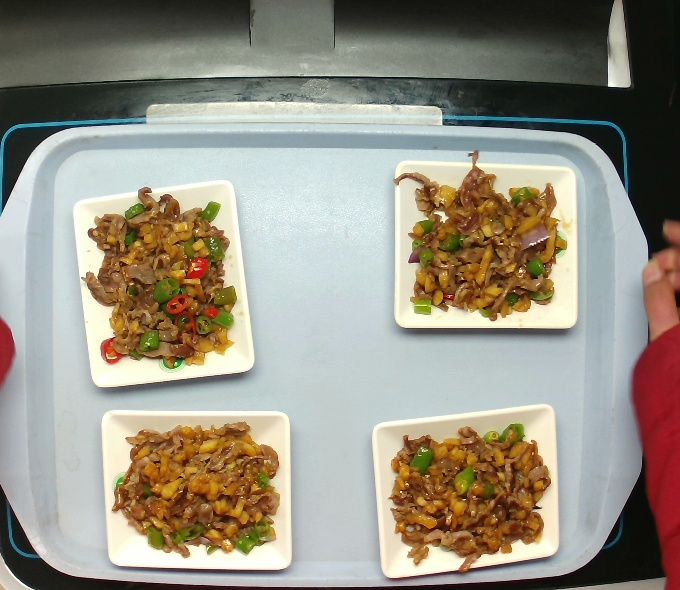wcq-ZhaCaiChaoJiZhen: (68, 176, 251, 382), (391, 144, 579, 335), (376, 409, 558, 576), (106, 414, 294, 569)
